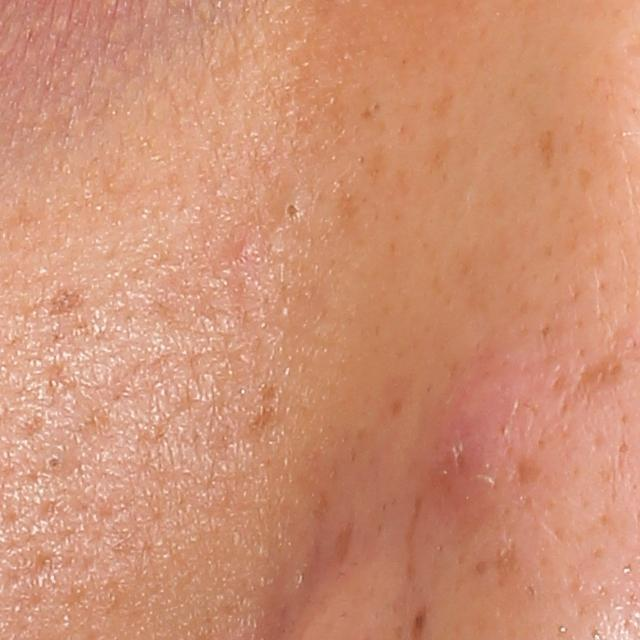comedo: (284, 197, 305, 223)
melasma: (571, 347, 633, 402), (328, 508, 359, 569), (45, 282, 87, 321), (533, 125, 560, 176)
